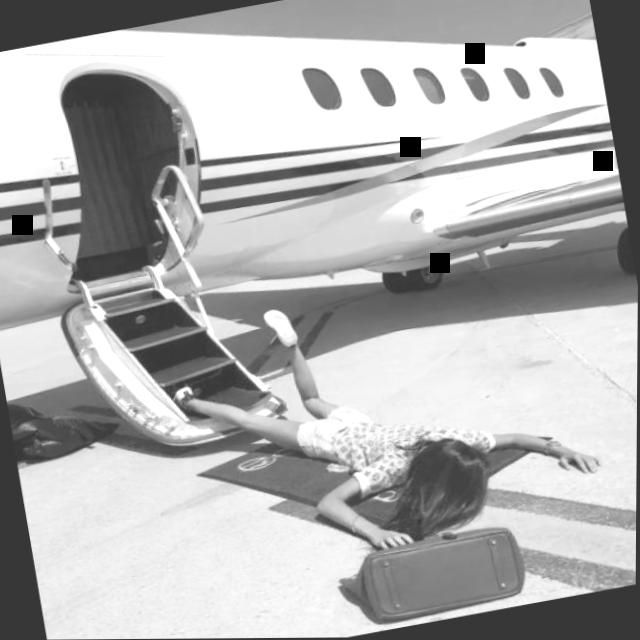Fall-Detected: (158, 254, 606, 596)
